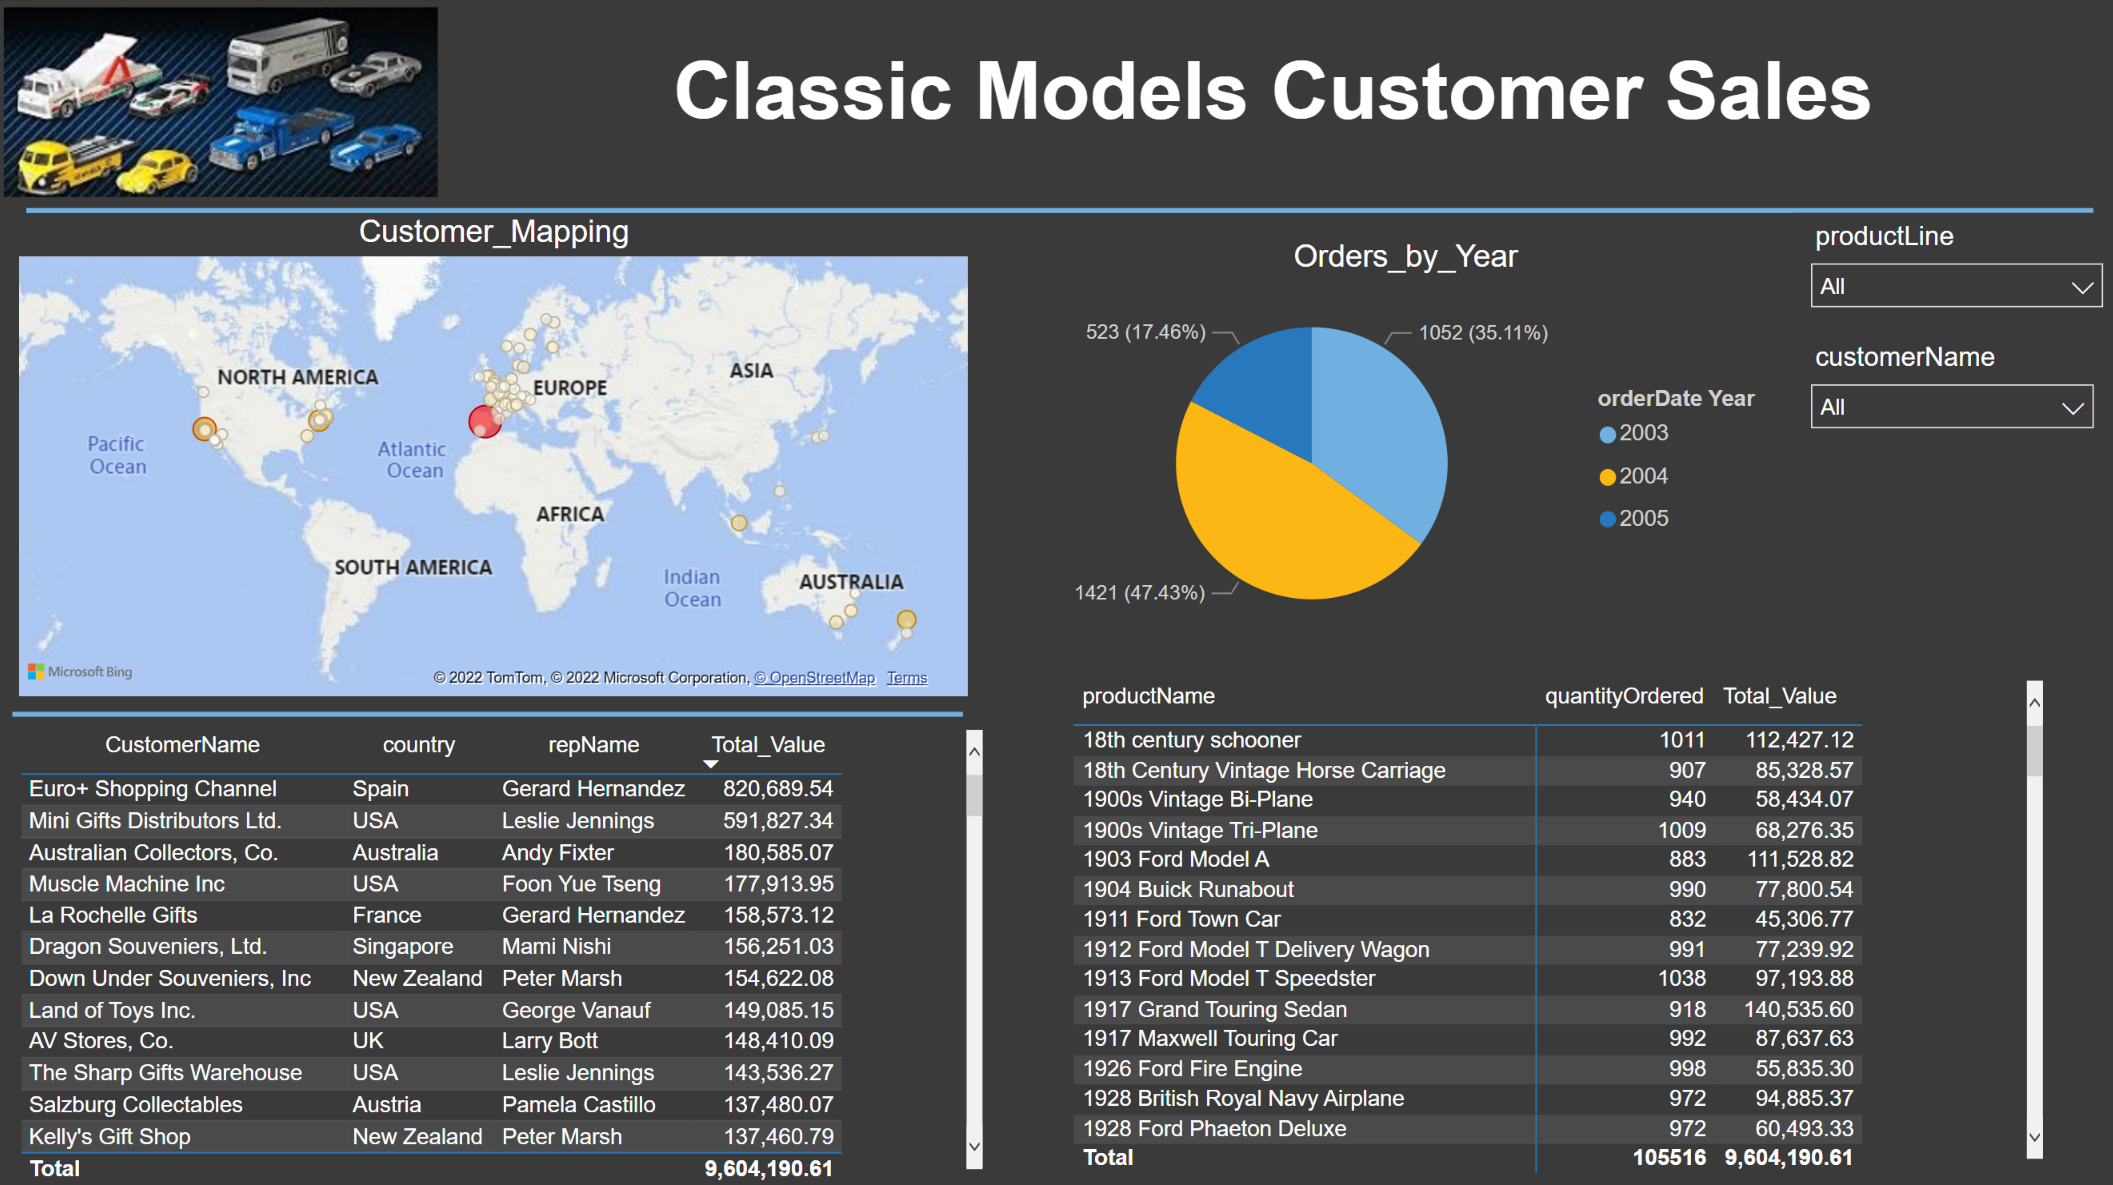

The page's visual inventory and layout, read from the dashboard file:
{"tool":"powerbi","page":{"name":"Scenario3","canvas":[1280,720],"ordinal":2},"visuals":[{"type":"textbox","box":[295.8,10.5,948.2,80.5],"z":0},{"type":"image","box":[0,0,271.6,125],"z":1000},{"type":"basicShape","box":[8.6,111.2,1265.7,34.2],"z":2000},{"type":"basicShape","box":[0,395.3,592.9,72.6],"z":3000},{"type":"map","title":"Customer_Mapping","fields":{"Category":["Customers.city"],"Size":["Sum(Order_Details.Total_Value)"]},"box":[9.2,130.2,582.4,295.8],"z":4000},{"type":"slicer","fields":{"Values":["Products.productLine"]},"box":[1083.3,129.7,196.7,72.7],"z":5000},{"type":"tableEx","fields":{"Values":["Order_Details.CustomerName","Customers.country","Customers.repName","Sum(Order_Details.Total_Value)"]},"box":[9.2,436.5,590.3,283.4],"z":6000},{"type":"pivotTable","fields":{"Values":["Sum(Order_Details.quantityOrdered)","Sum(Order_Details.Total_Value)"],"Rows":["Order_Details.productName"]},"box":[644.6,419.5,593.5,293.8],"z":7000},{"type":"pieChart","title":"Orders_by_Year","fields":{"Y":["CountNonNull(Order_Details.orderNumber)"],"Category":["Orders.orderDate.Variation.Date Hierarchy.Year","Orders.orderDate.Variation.Date Hierarchy.Quarter","Orders.orderDate.Variation.Date Hierarchy.Month","Orders.orderDate.Variation.Date Hierarchy.Day"]},"box":[615.8,145.4,467.5,249.4],"z":8000},{"type":"slicer","fields":{"Values":["Customers.customerName"]},"box":[1083.3,202.4,191,62.7],"z":9000}]}

Visuals, with their boxes in screenshot pixels (x1, y1, x2, y2), scaled from the page's 1280x720 canvas onto the 2113x1185 screenshot:
textbox: box(488, 17, 2054, 150)
image: box(0, 0, 448, 206)
basicShape: box(14, 183, 2104, 239)
basicShape: box(0, 651, 979, 770)
"Customer_Mapping" map: box(15, 214, 977, 701)
slicer - Products.productLine: box(1788, 213, 2112, 333)
tableEx - Order_Details.CustomerName x Customers.country: box(15, 718, 990, 1184)
pivotTable - Sum(Order_Details.quantityOrdered) x Sum(Order_Details.Total_Value): box(1064, 690, 2044, 1174)
"Orders_by_Year" pieChart: box(1017, 239, 1788, 650)
slicer - Customers.customerName: box(1788, 333, 2104, 436)
